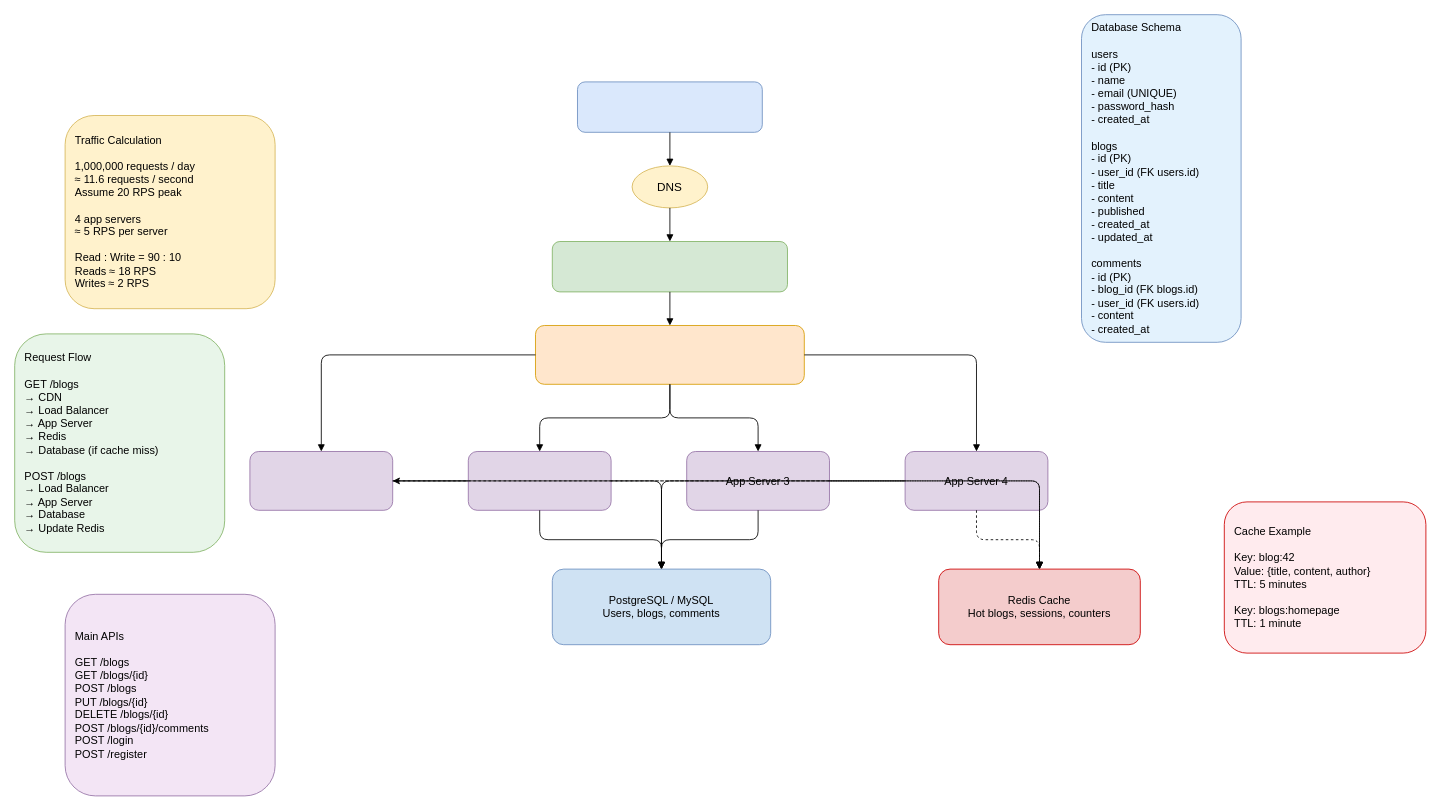
Image size: 1441x811. Some labels were removed from this diagram. The centre of each missing label's shape, as x and y in pixels:
App Server 1: (x=321, y=480)
App Server 2: (x=539, y=480)
CDN / Static Cache: (x=669, y=266)
Load Balancer: (x=669, y=354)
Users / Mobile / Web: (x=669, y=106)
